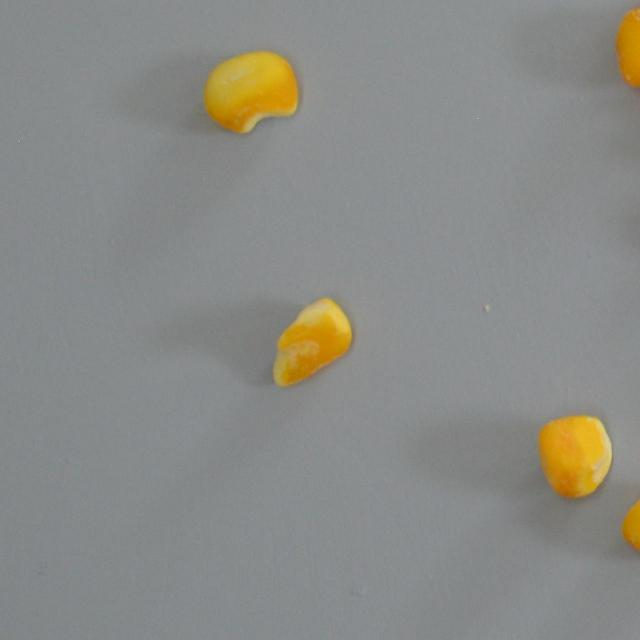no_canjicado: (200, 48, 298, 134), (540, 414, 614, 498), (622, 477, 640, 562)
pelicula: (272, 296, 352, 386), (613, 6, 640, 86)
